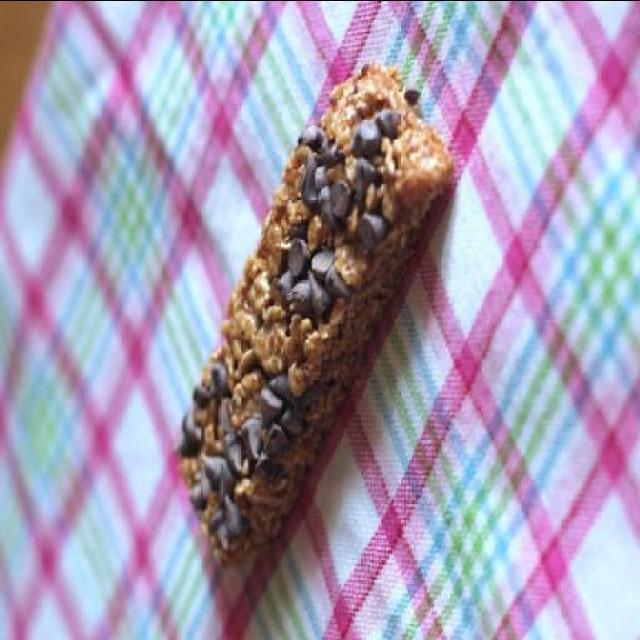Cereal bar packaged: (170, 51, 452, 562)
